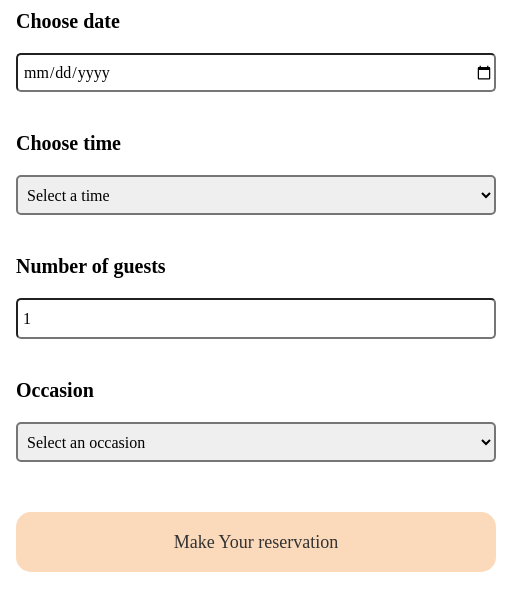
Booking Form › User is able to submit the form with valid form input fields
The width and height of the screenshot is (513, 589).
Type "2023-04-16" into the date field labelled "date".
click(256, 72); type("2023-04-16")  # box left=16, top=53, right=496, bottom=92
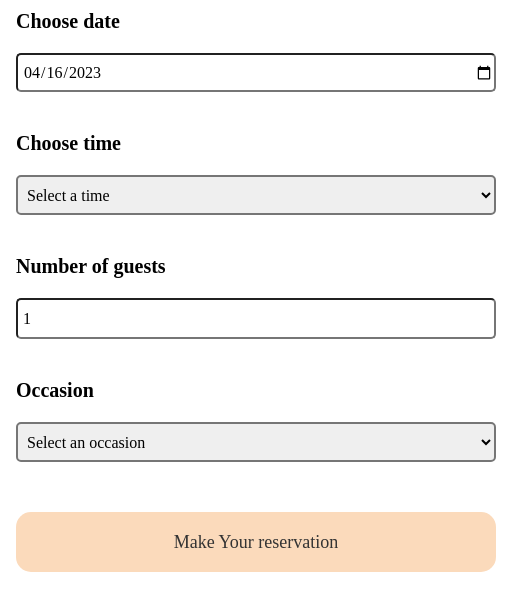
Select "17:00" in the dropdown named "time" at (256, 195), box left=16, top=175, right=496, bottom=215
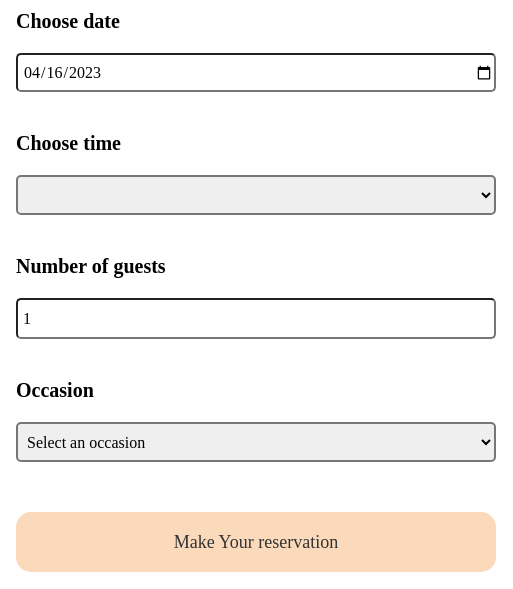
Type "3" into the number field labelled "guests".
click(256, 318); type("3")  # box left=16, top=298, right=496, bottom=339
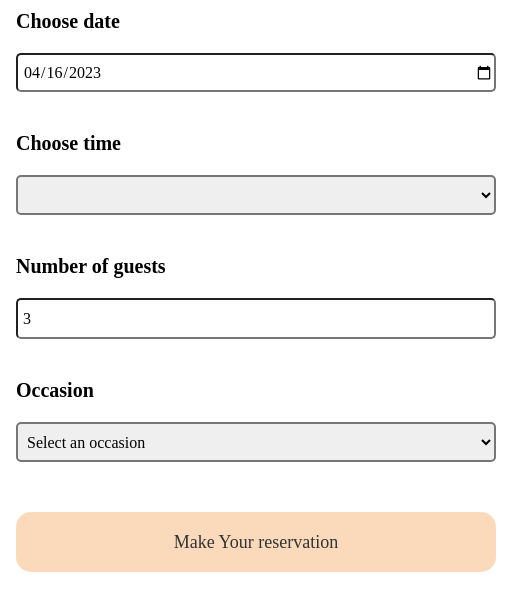
Select "Birthday" in the dropdown labelled "Occasion" at (256, 442), box left=16, top=422, right=496, bottom=462
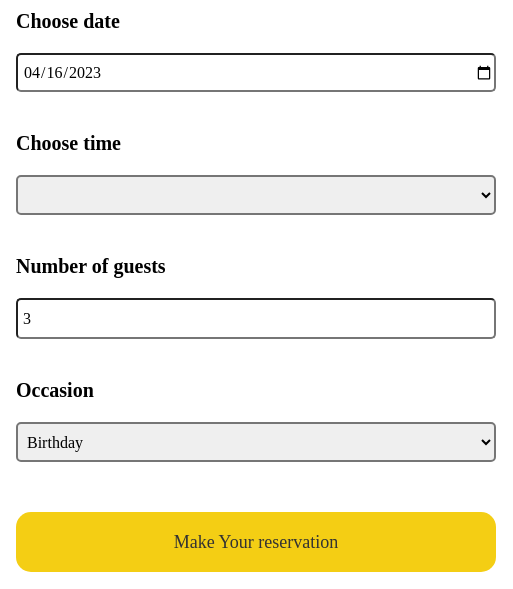
expect the button is enabled: met, box left=16, top=512, right=496, bottom=572
